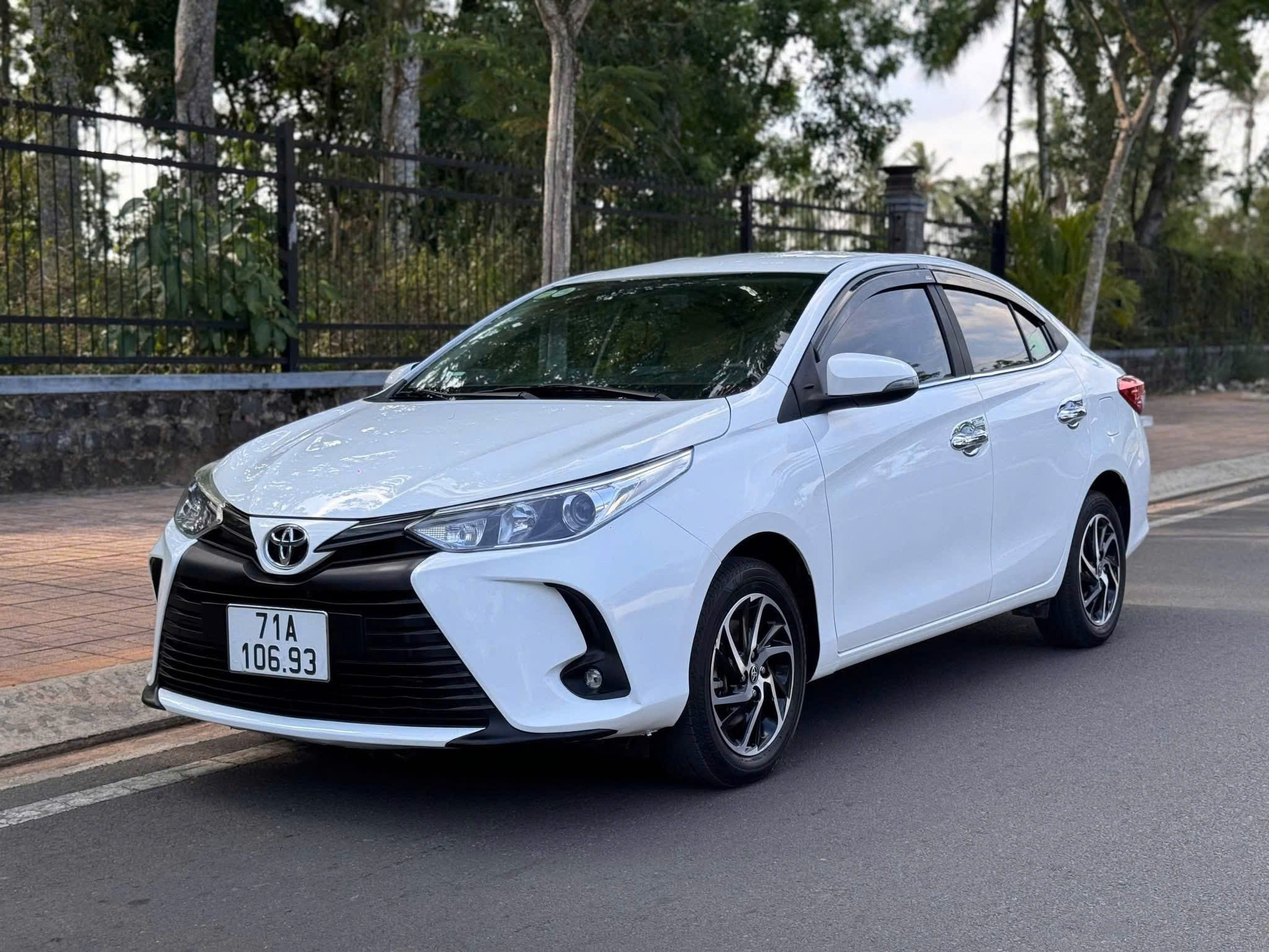Bien-so: (226, 606, 332, 679)
